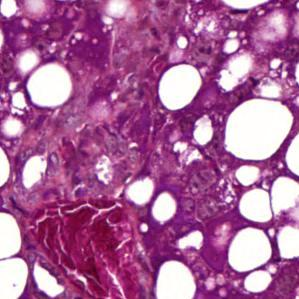steatosis: (221, 97, 294, 163), (152, 61, 204, 110), (230, 224, 280, 274), (21, 66, 76, 108)
